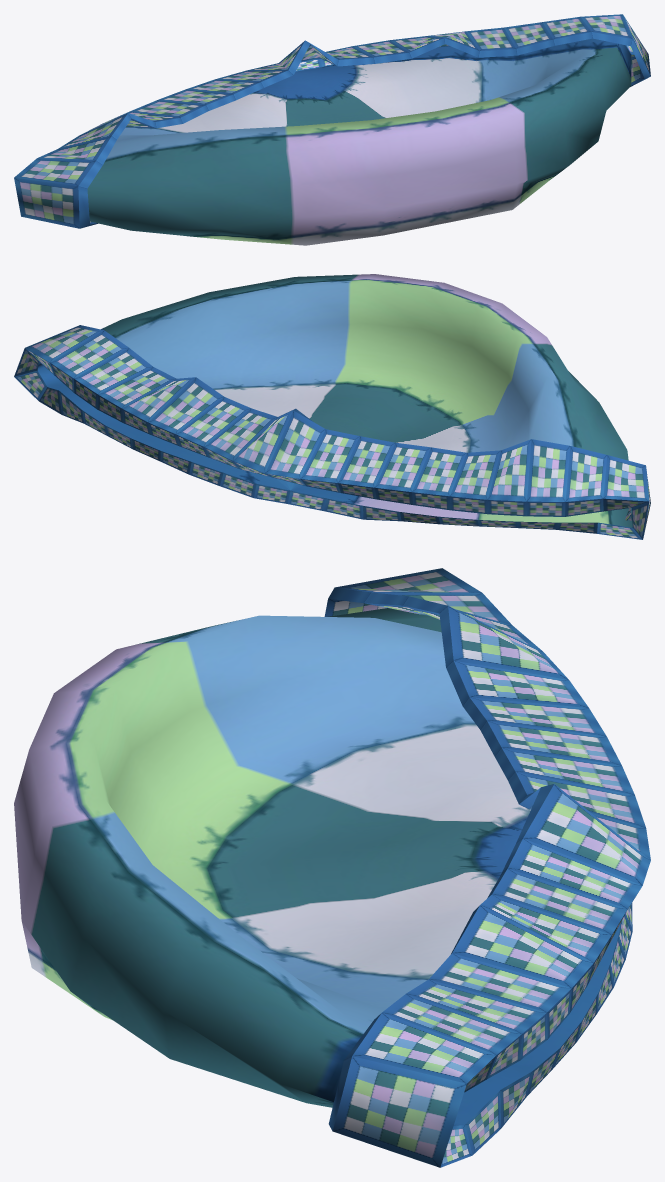
File: babyHat_Boy.fbx
The picture shows the model from 3 angles, top to bottom: view 1: azimuth 30°, elevation 25°; view 2: azimuth 150°, elevation 25°; view 3: azimuth 270°, elevation 25°; orthographic projection. The views are drawn at different scales.
Visible parts, largest first — view 1: babyHat; view 2: babyHat; view 3: babyHat.
Boxes of the visible parts, <box> form: babyHat: <box>14,14,650,245</box>; babyHat: <box>14,274,650,539</box>; babyHat: <box>14,568,650,1167</box>.
Size of the model in its own units: 3.08 by 0.4692 by 1.52.
1 material, 1 textured.
